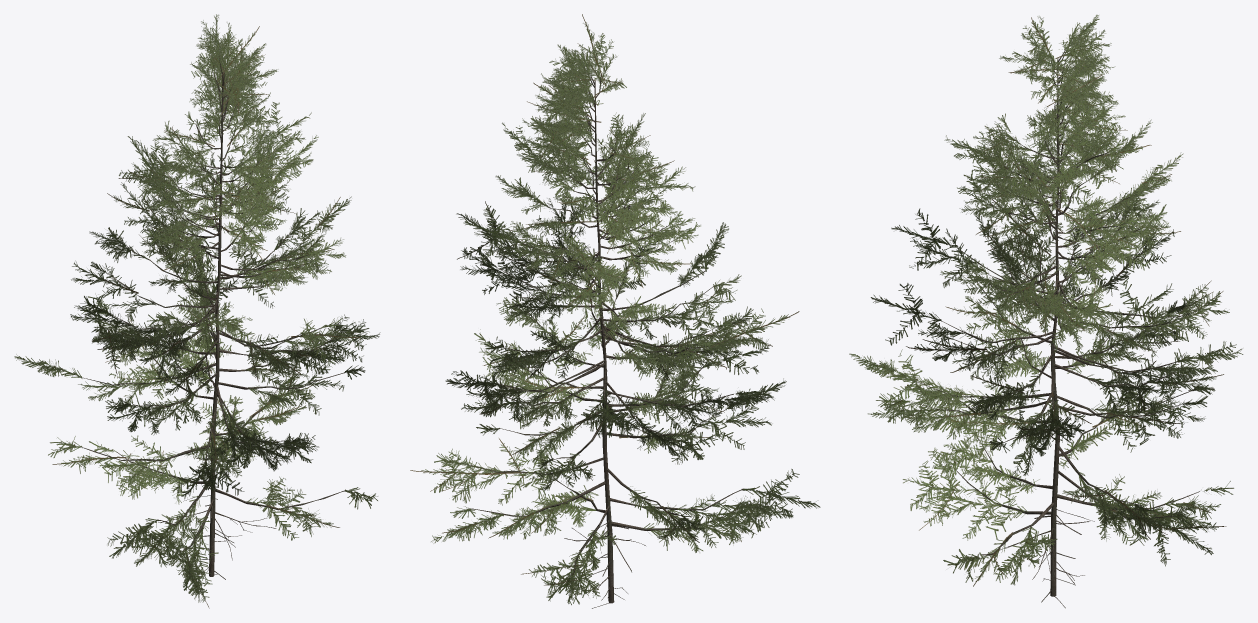
Rendered from gtree_fir.glb.
3 renders of one model, left to right at view 1: azimuth 30°, elevation 25°; view 2: azimuth 150°, elevation 25°; view 3: azimuth 270°, elevation 25°, orthographic. The views are drawn at different scales.
Parts seen in each view (by area): view 1: gtree_fir_v0_lod0; view 2: gtree_fir_v0_lod0; view 3: gtree_fir_v0_lod0.
Boxes of the visible parts, x1,y1,x2,y2 form: gtree_fir_v0_lod0: (14, 14, 380, 608); gtree_fir_v0_lod0: (410, 14, 820, 608); gtree_fir_v0_lod0: (849, 14, 1243, 608).
Size of what is drawn, in the model's own units: 4.29 by 7.58 by 4.48.
3 materials, 3 textured.
